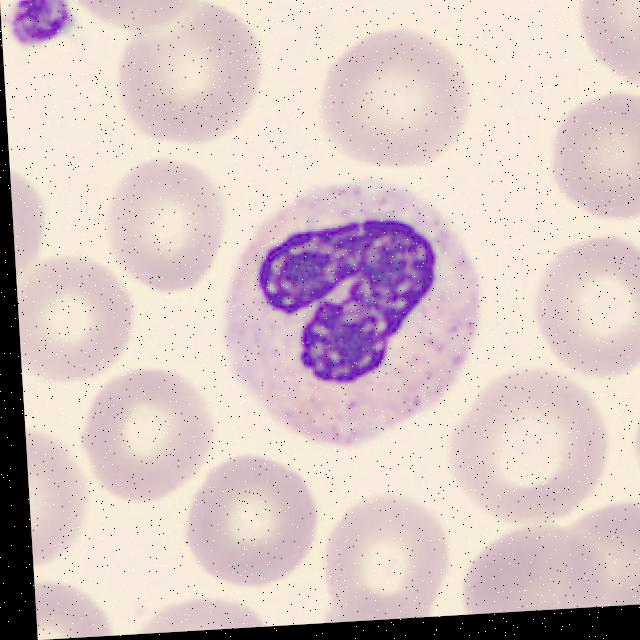neutrophil: (212, 168, 497, 456)
platelets: (8, 0, 78, 48)
rbc: (441, 353, 622, 536), (304, 17, 490, 186), (179, 439, 332, 597), (101, 4, 265, 143), (76, 364, 219, 507), (105, 155, 238, 302), (316, 478, 449, 623), (15, 244, 137, 389), (519, 232, 640, 375), (453, 518, 617, 615), (538, 97, 640, 225), (24, 406, 98, 575), (547, 0, 640, 99), (558, 503, 640, 609), (9, 156, 68, 292), (126, 587, 282, 635), (35, 573, 118, 640), (76, 0, 203, 41), (619, 0, 640, 113), (633, 374, 640, 507)
